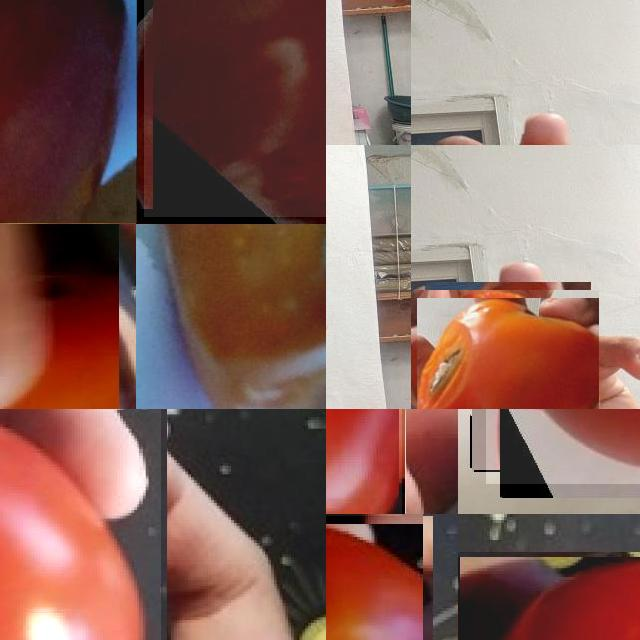1: (144, 0, 326, 217), (136, 224, 326, 409), (0, 0, 136, 223), (0, 224, 119, 409)
Fresh Tomato: (0, 409, 161, 640), (458, 557, 640, 640)
Rotten Tomato: (416, 290, 599, 409)
